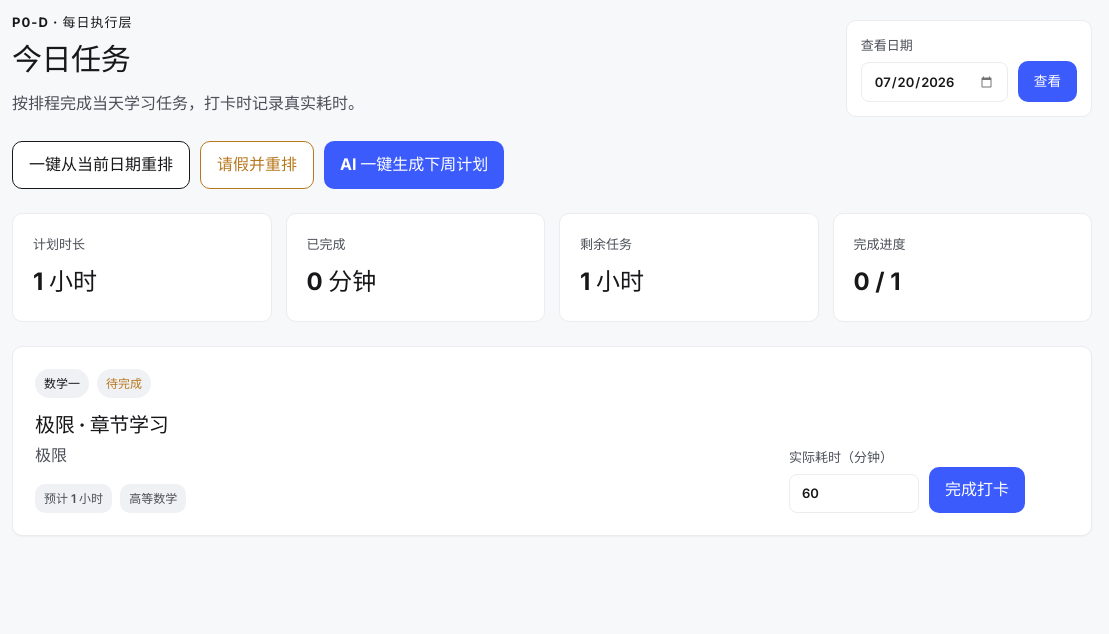
Test case: TodayView › reschedules overdue tasks and marks leave days
This screenshot has width=1109, height=634.
Click the button with class "reschedule-button": click(101, 165) left=12, top=142, right=190, bottom=189
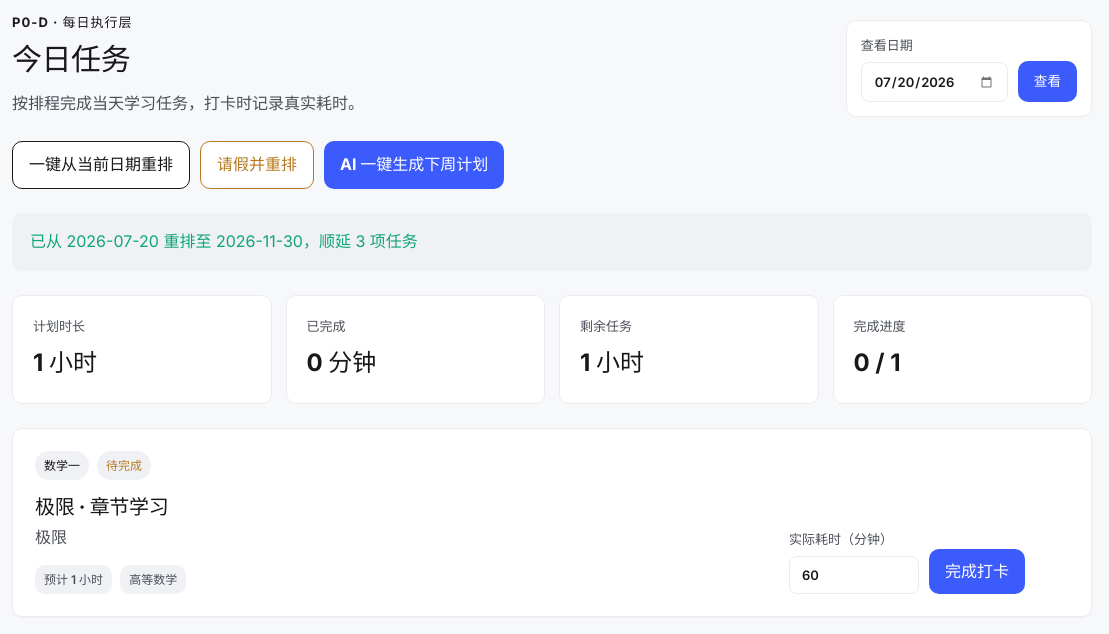
Now the text "已从 2026-07-20 重排至 2026-11-30，顺延 3 项任务" is shown, box left=12, top=213, right=1092, bottom=271
Click the button with class "leave-button": click(257, 165) left=200, top=142, right=314, bottom=189
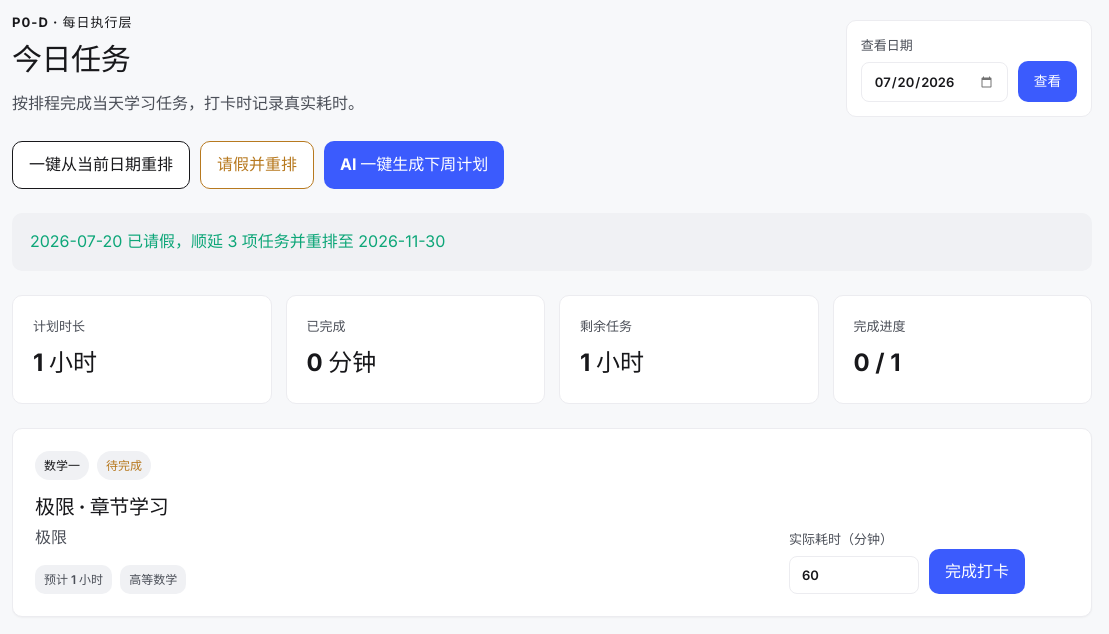
Now the text "2026-07-20 已请假，顺延 3 项任务并重排至 2026-11-30" is shown, box left=12, top=213, right=1092, bottom=271
